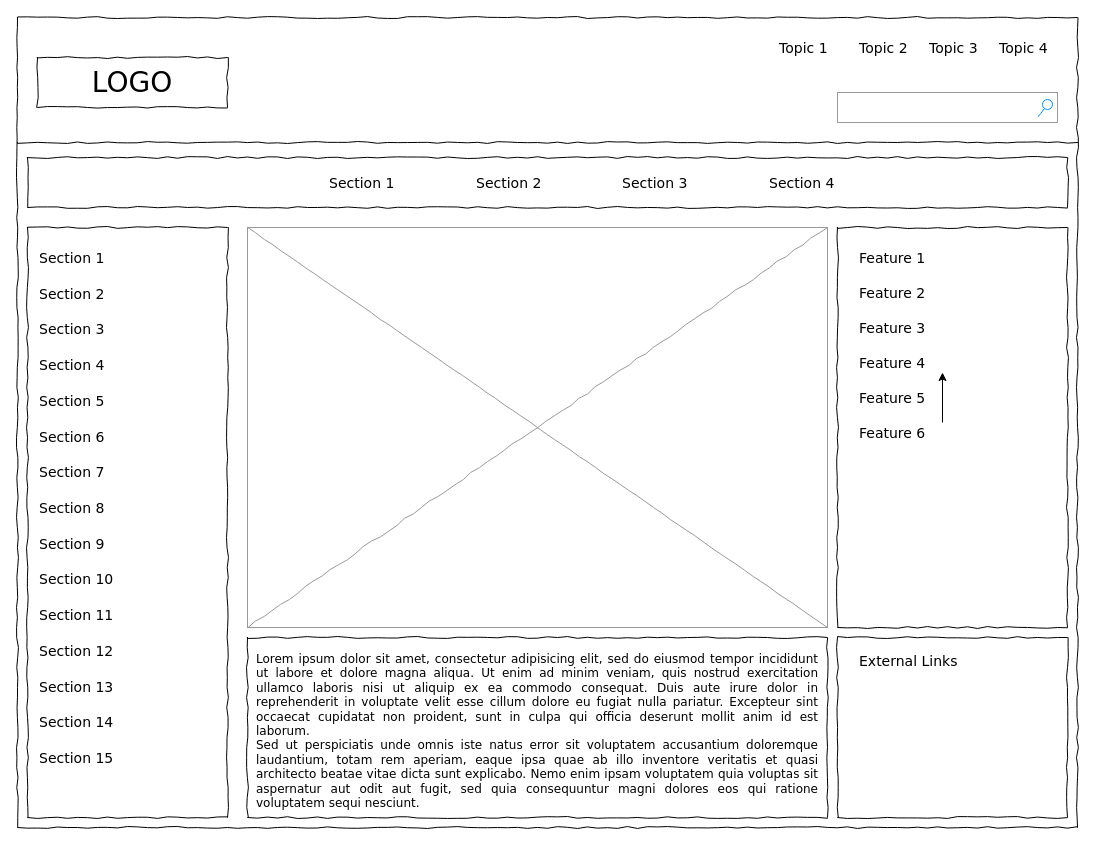
The diagram is 1095 pixels wide and 845 high, and some of its shapes have lost their labels. Here are the shapes that lost their labels. From the top down, the box of each, then its label:
(836, 92, 1058, 122): Search
(246, 226, 828, 628): List Item
